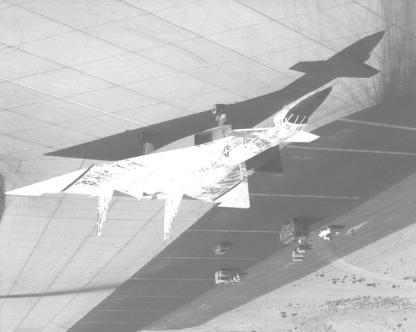U2: (5, 80, 341, 241)
